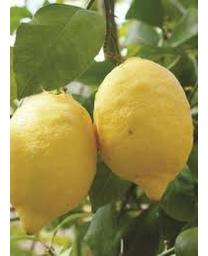lemon: (94, 58, 193, 200), (12, 90, 97, 235)
